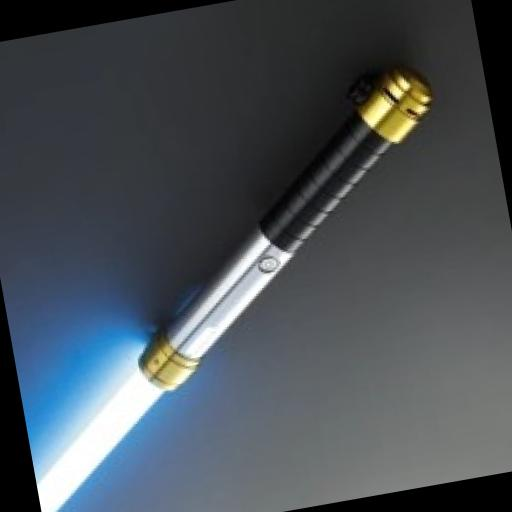lightsaber: (0, 59, 498, 512)
